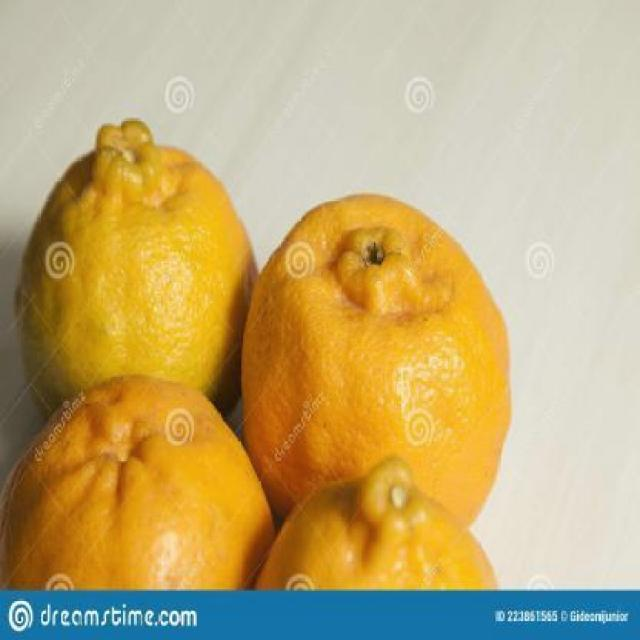Jeruk Sudah Matang: (243, 194, 512, 522), (0, 380, 278, 584), (253, 476, 499, 594)
